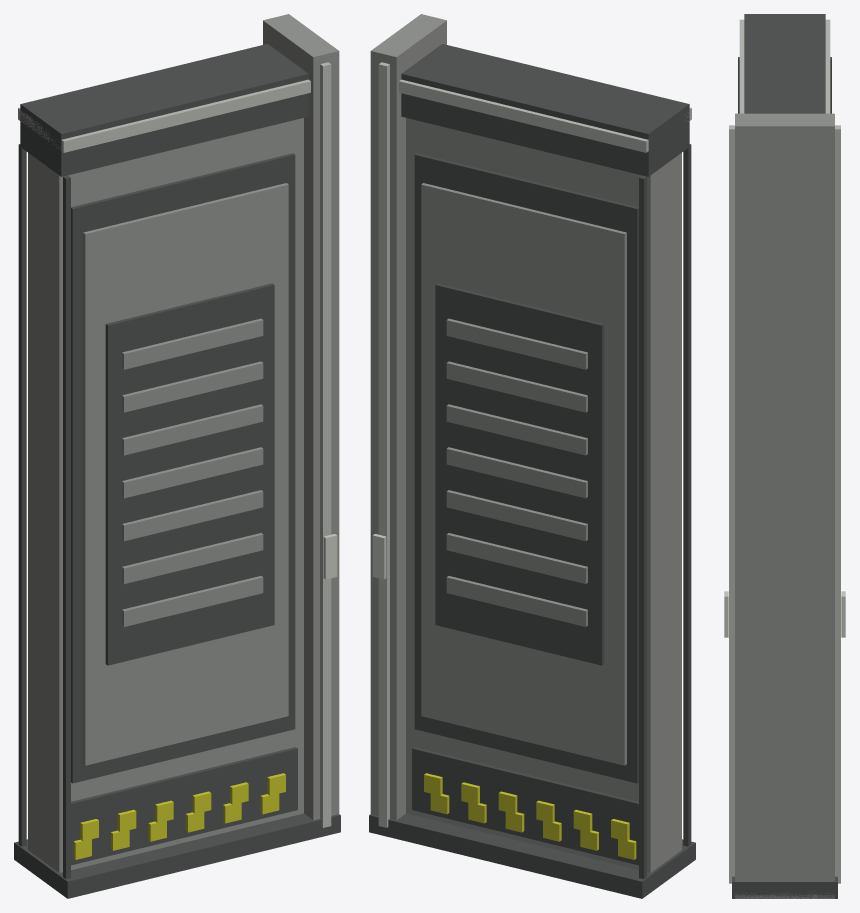
The model's file is CMU3DPairedPersonalSolid.glb.
3 renders of one model, left to right at view 1: azimuth 30°, elevation 25°; view 2: azimuth 150°, elevation 25°; view 3: azimuth 270°, elevation 25°, orthographic.
Visible parts, largest first — view 1: inner face panel, single closed door leaf, large recessed solid panel, outer door jamb, leaf recessed face, continuous top track, solid panel narrow louvers (×7), meeting edge seal (×2), lower hazard band, outer jamb highlight, threshold, top track lip (+1 smaller); view 2: inner face panel back, single closed door leaf, large recessed solid panel back, outer door jamb, leaf recessed face back, continuous top track, solid panel narrow louvers back (×7), meeting edge seal (×2), lower hazard band back, outer jamb highlight, threshold, top track lip (+1 smaller); view 3: outer door jamb, outer jamb highlight (×2), continuous top track, threshold, top track lip.
Boxes of the visible parts, <box> form: inner face panel: <box>83,183,288,765</box>; single closed door leaf: <box>28,118,303,872</box>; large recessed solid panel: <box>105,283,274,665</box>; outer door jamb: <box>263,14,339,820</box>; leaf recessed face: <box>71,153,295,783</box>; continuous top track: <box>20,44,308,176</box>; solid panel narrow louvers (×7): <box>122,318,263,626</box>; meeting edge seal (×2): <box>18,144,70,878</box>; lower hazard band: <box>71,747,297,865</box>; outer jamb highlight: <box>320,62,331,827</box>; threshold: <box>14,813,340,898</box>; top track lip: <box>18,79,310,152</box>; inner face panel back: <box>421,183,626,765</box>; single closed door leaf: <box>406,118,681,872</box>; large recessed solid panel back: <box>435,283,604,665</box>; outer door jamb: <box>370,14,446,820</box>; leaf recessed face back: <box>414,153,638,783</box>; continuous top track: <box>401,44,689,176</box>; solid panel narrow louvers back (×7): <box>446,318,587,626</box>; meeting edge seal (×2): <box>639,144,691,878</box>; lower hazard band back: <box>412,747,638,865</box>; outer jamb highlight: <box>378,62,389,827</box>; threshold: <box>369,813,695,898</box>; top track lip: <box>399,79,691,152</box>; outer door jamb: <box>735,113,834,898</box>; outer jamb highlight (×2): <box>729,125,840,883</box>; continuous top track: <box>744,14,825,113</box>; threshold: <box>732,876,837,898</box>; top track lip: <box>739,19,830,113</box>.
Bounding box in the file's own units: 1 × 2.73 × 0.388.
